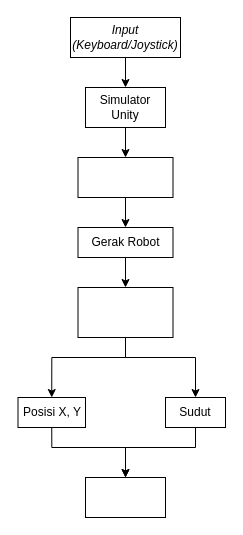
Image size: 243x535. Some labels were removed from this diagram. The centre of each missing label's shape, as x and y in pixels:
"Dashboard Python" belongs at [125,497].
"Forward Kinematic ( Odometri )" belongs at [125,312].
"Inverse Kinematic" belongs at [125,177].
